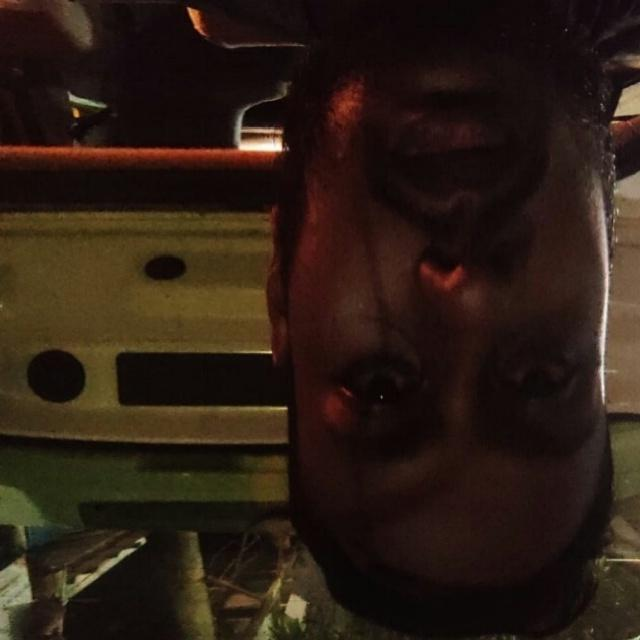Sad: (232, 67, 610, 594)
